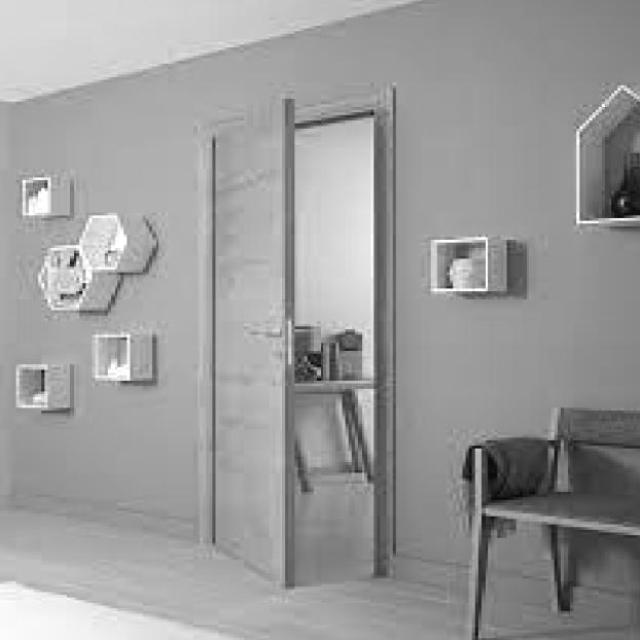door: (205, 97, 296, 598)
